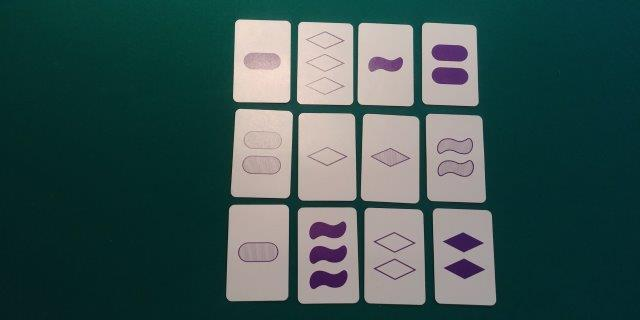1ED: (301, 116, 352, 198)
1FP: (237, 23, 286, 98)
1FW: (360, 26, 410, 103)
1HD: (364, 118, 415, 198)
1HP: (231, 208, 285, 298)
2ED: (366, 210, 421, 301)
2FD: (438, 213, 488, 301)
2FP: (425, 26, 473, 101)
2HP: (237, 112, 285, 194)
2HW: (429, 117, 480, 199)
3ED: (301, 26, 348, 101)
3FW: (300, 209, 354, 300)
